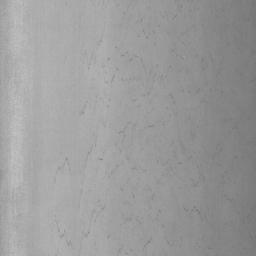Silk spot: (183, 206, 200, 215)
